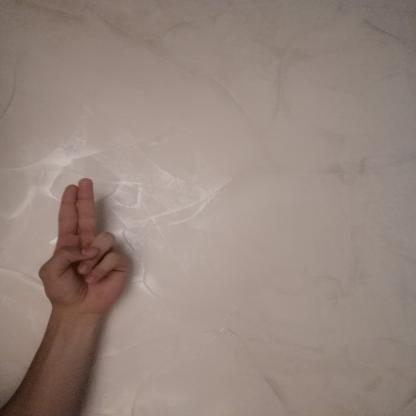TA: (22, 170, 142, 319)
